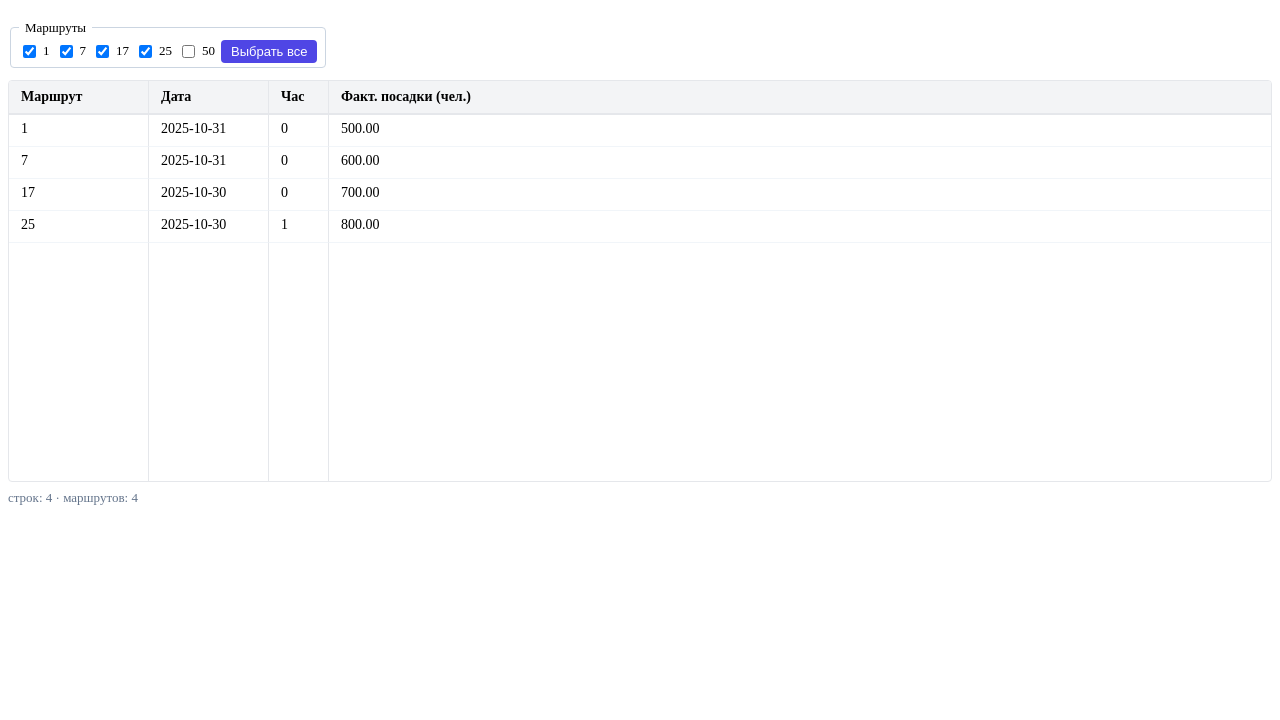
Test case: <HistoricalTable> › кнопка "Показать все" переключает состояние
The width and height of the screenshot is (1280, 720).
Click the button with test id "historical-table-show-all" at (269, 51), box [221,40,318,63]
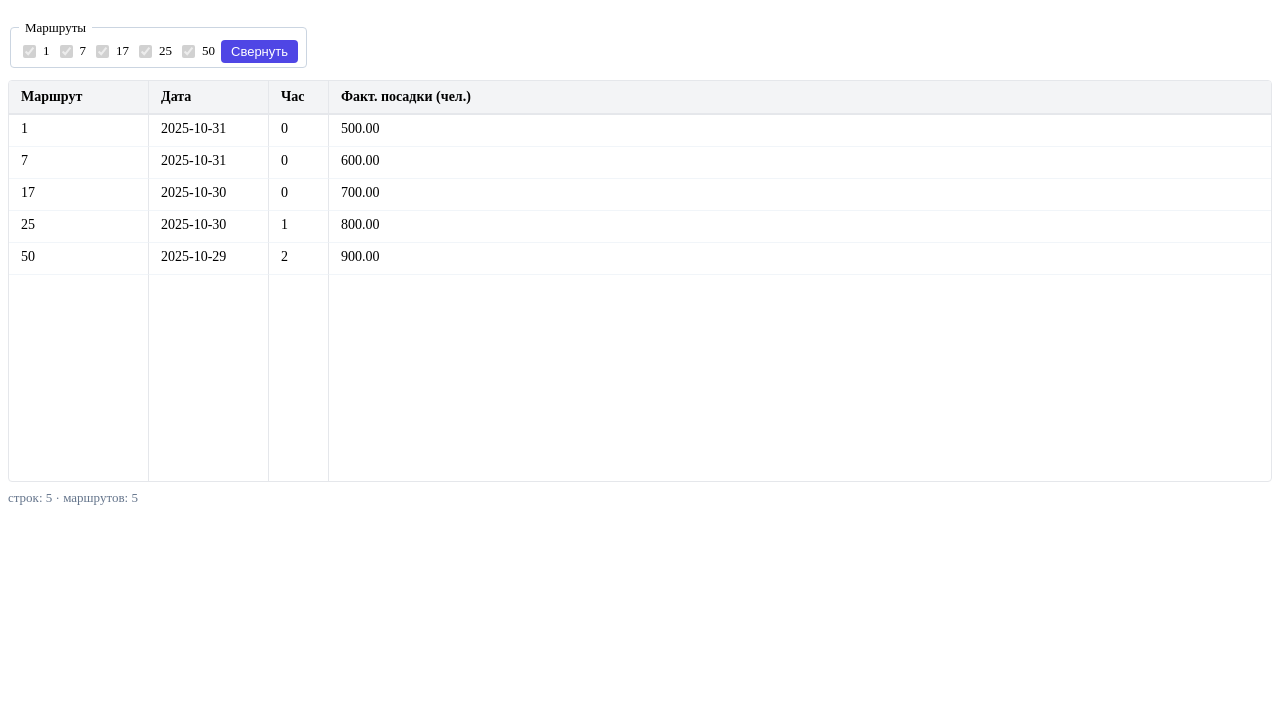
Expected: the button with test id "historical-table-collapse" is shown, [221,40,298,63]
